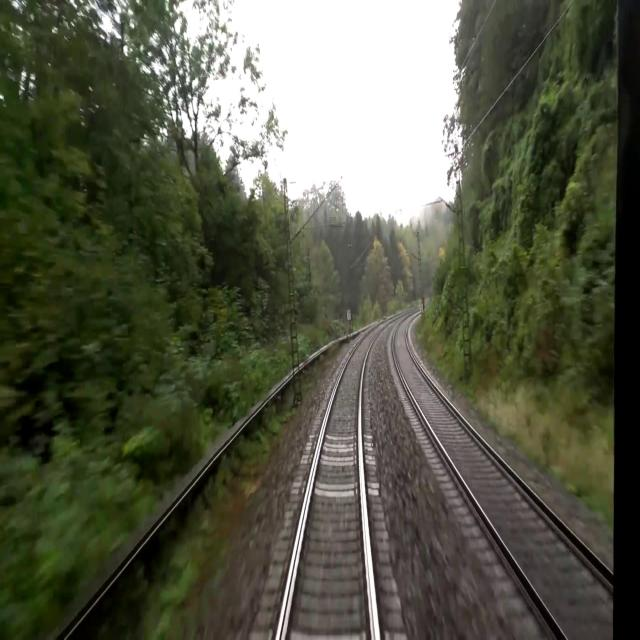rail-track: (394, 315, 640, 639), (282, 325, 383, 639)
